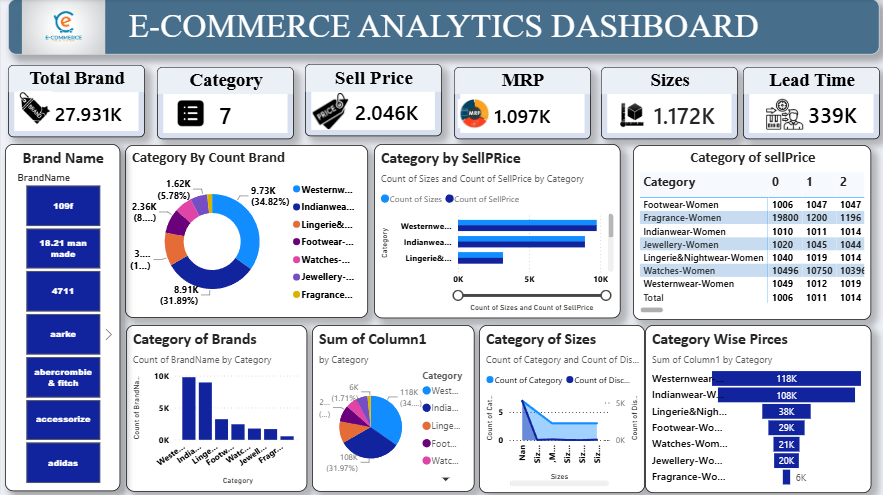

The dashboard page shown, as its layout file describes it:
{"tool":"powerbi","page":{"name":"Page 1","canvas":[1280,720],"ordinal":0},"visuals":[{"type":"textbox","box":[10,0,1255,80],"z":0},{"type":"image","box":[10.8,0,160,80],"z":1000},{"type":"cardVisual","title":"Total Brand","fields":{"Data":["CountNonNull(FashionDataset.BrandName)"]},"box":[10.7,94.6,197,104],"z":2000},{"type":"cardVisual","title":"Category","fields":{"Data":["Count(FashionDataset.Category)"]},"box":[225.1,97.4,197,104],"z":3000},{"type":"cardVisual","title":"MRP","fields":{"Data":["Count(FashionDataset.MRP)"]},"box":[651.8,97.4,197,104],"z":4000},{"type":"cardVisual","title":"Sell Price","fields":{"Data":["Count(FashionDataset.SellPrice)"]},"box":[438.4,94.1,196.5,104.1],"z":5000},{"type":"cardVisual","title":"Sizes","fields":{"Data":["Count(FashionDataset.Sizes)"]},"box":[863.4,97.4,197,104],"z":6000},{"type":"cardVisual","title":"Lead Time","fields":{"Data":["Sum(FashionDataset.Column1)"]},"box":[1068.3,97.4,197,104],"z":7000},{"type":"donutChart","title":" Category By Count Brand","fields":{"Y":["CountNonNull(FashionDataset.BrandName)"],"Category":["FashionDataset.Category"]},"box":[179,210,350,249],"z":8000},{"type":"clusteredBarChart","title":"Category by SellPRice","fields":{"Category":["FashionDataset.Category"],"Y":["CountNonNull(FashionDataset.Sizes)","CountNonNull(FashionDataset.SellPrice)"]},"box":[537,209,355,251],"z":9000},{"type":"pivotTable","title":"Category of sellPrice","fields":{"Rows":["FashionDataset.Category"],"Columns":["FashionDataset.Column1"],"Values":["Min(FashionDataset.SellPrice)"]},"box":[910.3,210.3,343.1,251.7],"z":10000},{"type":"columnChart","title":"Category of Brands","fields":{"Category":["FashionDataset.Category"],"Y":["CountNonNull(FashionDataset.BrandName)"]},"box":[179.3,469,261,240],"z":11000},{"type":"pieChart","fields":{"Category":["FashionDataset.Category"],"Y":["Sum(FashionDataset.Column1)"]},"box":[448,469,234,240],"z":12000},{"type":"areaChart","title":"Category of Sizes","fields":{"Y":["Count(FashionDataset.Category)"],"Y2":["CountNonNull(FashionDataset.Discount)"],"Category":["FashionDataset.Sizes"]},"box":[688,469,239,242],"z":13000},{"type":"funnel","title":"Category Wise Pirces","fields":{"Y":["Sum(FashionDataset.Column1)"],"Category":["FashionDataset.Category"]},"box":[927,469,326,242],"z":14000},{"type":"slicer","title":"Brand Name","fields":{"Values":["FashionDataset.BrandName"]},"box":[5.2,208.6,165.5,500],"z":15000},{"type":"image","box":[10.1,132.7,77.3,48.7],"z":17000},{"type":"image","box":[253.6,146.1,38.6,38.6],"z":18000},{"type":"image","box":[448.5,136.1,53.8,52.1],"z":19000},{"type":"image","box":[656.8,144.5,50.4,42],"z":20000},{"type":"image","box":[856.7,144.5,105.8,42],"z":21000},{"type":"image","box":[1101.9,131,53.8,67.2],"z":22000}]}

Visuals, with their boxes in screenshot pixels (x1, y1, x2, y2), scaled from the page's 1280x720 canvas onto the 883x495 screenshot:
textbox: (7, 0, 873, 55)
image: (7, 0, 118, 55)
"Total Brand" cardVisual: (7, 65, 143, 137)
"Category" cardVisual: (155, 67, 291, 138)
"MRP" cardVisual: (450, 67, 586, 138)
"Sell Price" cardVisual: (302, 65, 438, 136)
"Sizes" cardVisual: (596, 67, 732, 138)
"Lead Time" cardVisual: (737, 67, 873, 138)
" Category By Count Brand" donutChart: (123, 144, 365, 316)
"Category by SellPRice" clusteredBarChart: (370, 144, 615, 316)
"Category of sellPrice" pivotTable: (628, 145, 865, 318)
"Category of Brands" columnChart: (124, 322, 304, 487)
pieChart - FashionDataset.Category x Sum(FashionDataset.Column1): (309, 322, 470, 487)
"Category of Sizes" areaChart: (475, 322, 639, 489)
"Category Wise Pirces" funnel: (639, 322, 864, 489)
"Brand Name" slicer: (4, 143, 118, 487)
image: (7, 91, 60, 125)
image: (175, 100, 202, 127)
image: (309, 94, 347, 129)
image: (453, 99, 488, 128)
image: (591, 99, 664, 128)
image: (760, 90, 797, 136)
